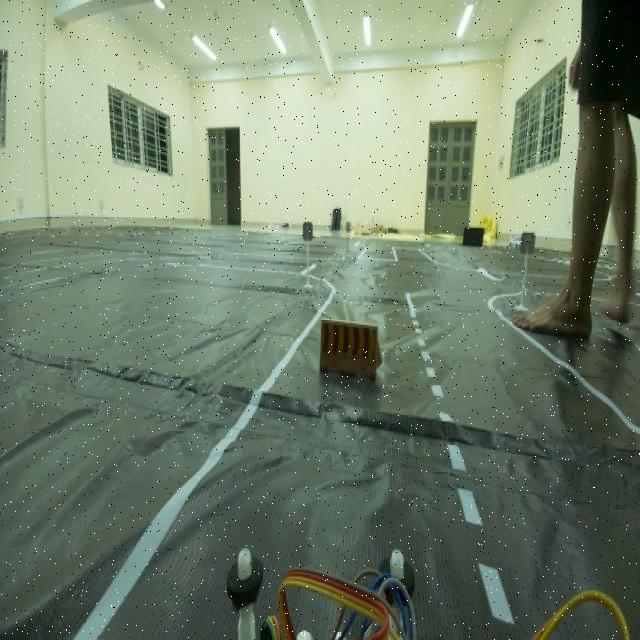roadblock: (310, 301, 388, 399)
